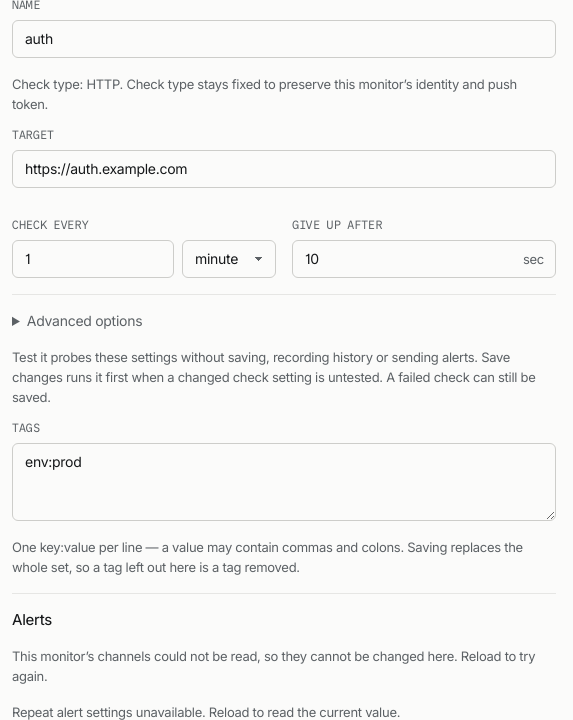
EditMonitorForm › rejects an out-of-range interval before the server has to
The image size is (573, 720).
Select "second" in the dropdown named "Check every: unit" at (229, 259), box [182,240,276,278]
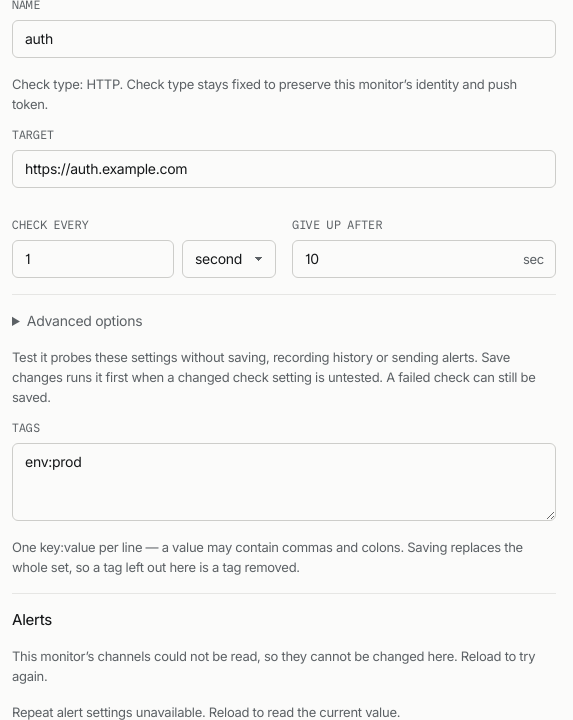
Replace the text in the field labelled "Check every" with "5" at (93, 259), box [12,240,174,278]
(page scrolled)
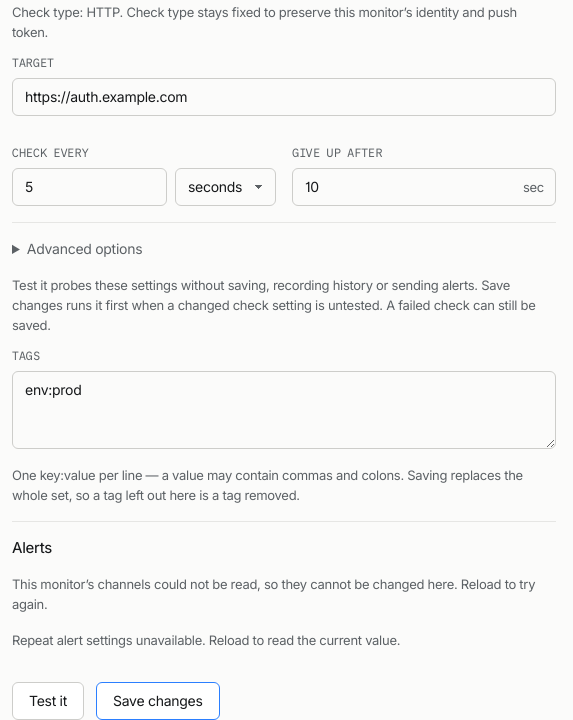
Click the button "Save changes" at (158, 701), box [96,682,220,719]
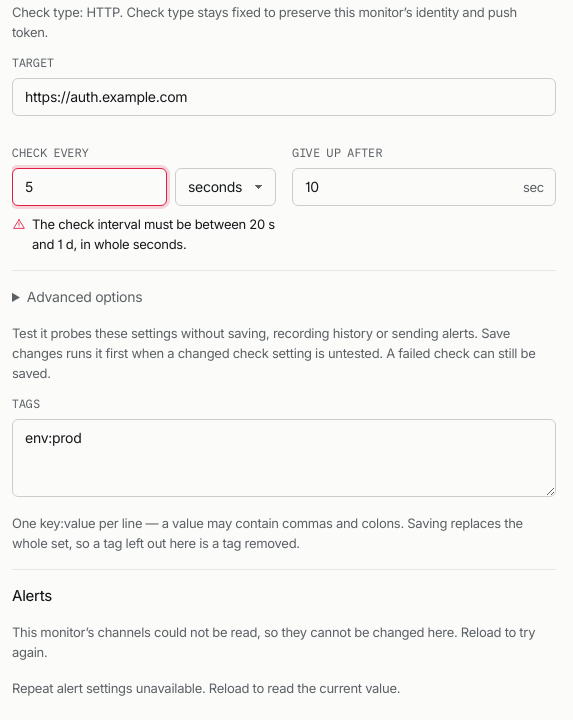
Expected: the message shows "between 20 s and 1 d", [32,216,275,252]
